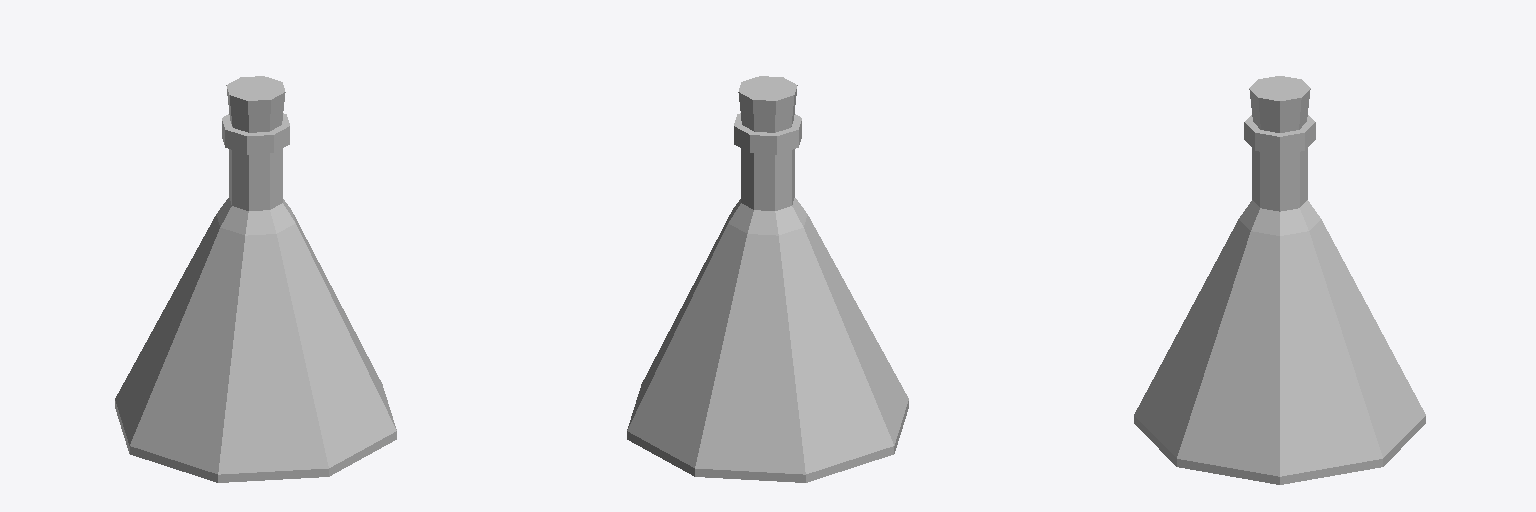
The model's file is yellow_potion.obj.
3 views of the same model, side by side, from view 1: azimuth 30°, elevation 25°; view 2: azimuth 150°, elevation 25°; view 3: azimuth 270°, elevation 25° (orthographic).
Parts seen in each view (by area): view 1: Potion_Cylinder.000; view 2: Potion_Cylinder.000; view 3: Potion_Cylinder.000.
Part boxes in pixels (x1,y1,x2,y2): Potion_Cylinder.000: (115, 76, 396, 482); Potion_Cylinder.000: (627, 76, 908, 482); Potion_Cylinder.000: (1134, 76, 1425, 484).
Bounding box in the file's own units: 1.22 × 1.55 × 1.22.